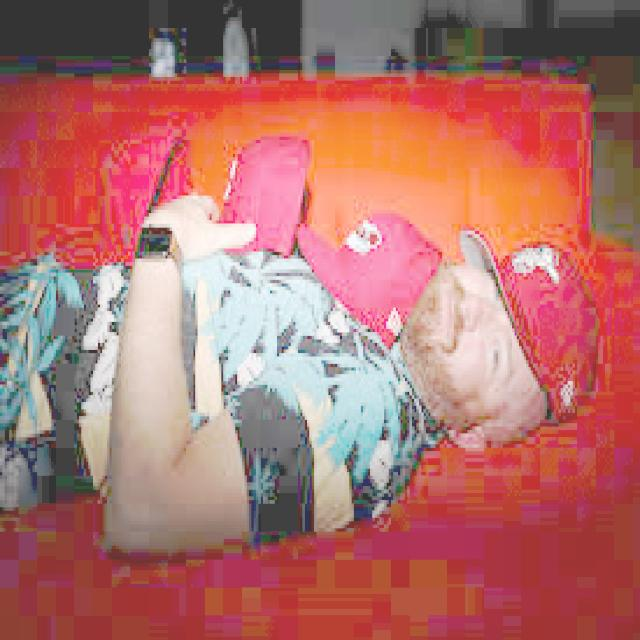TOPI: (456, 220, 603, 423), (293, 203, 445, 346), (51, 122, 182, 262), (198, 126, 314, 252)
